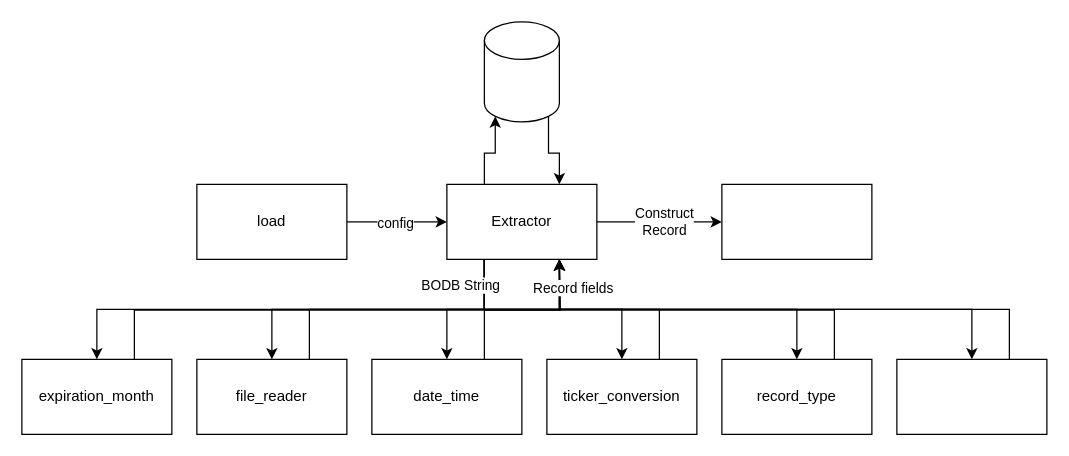
This 1069x456 diagram has some shape labels left out. Each missing label, with the centre of its shape:
"asset_price" goes at (971,396).
"Database" goes at (521,71).
"Record" goes at (796,221).
